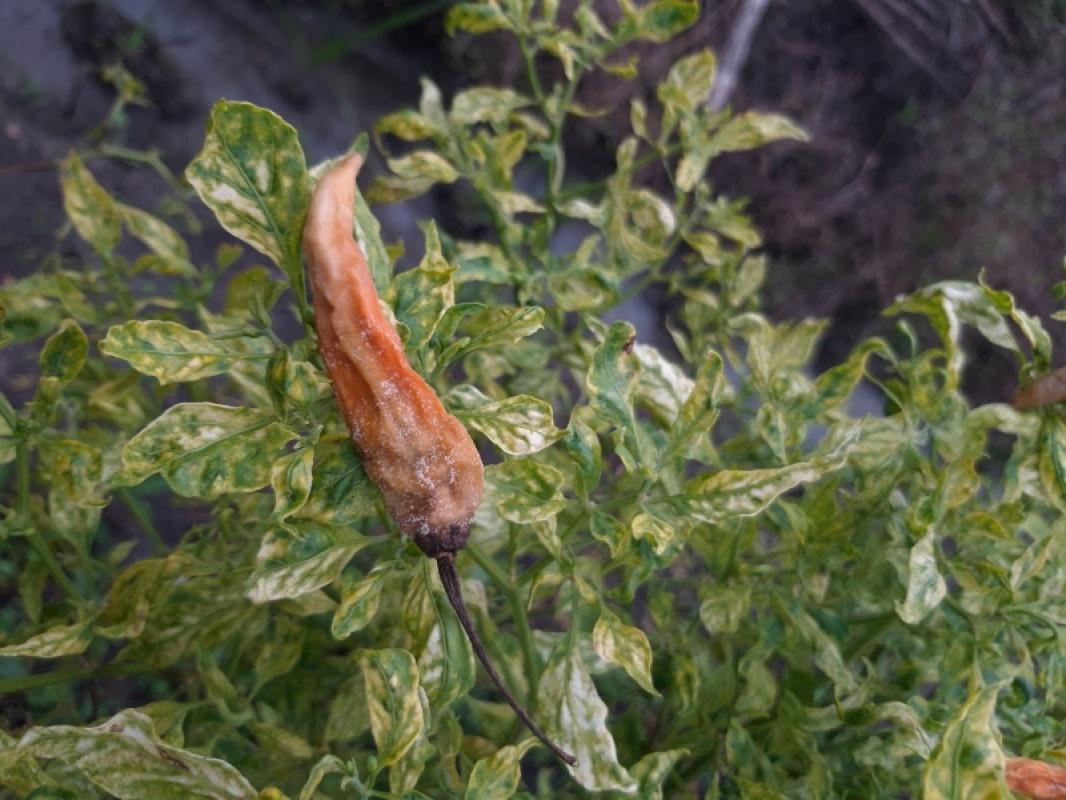antraknosa: (298, 153, 485, 555)
